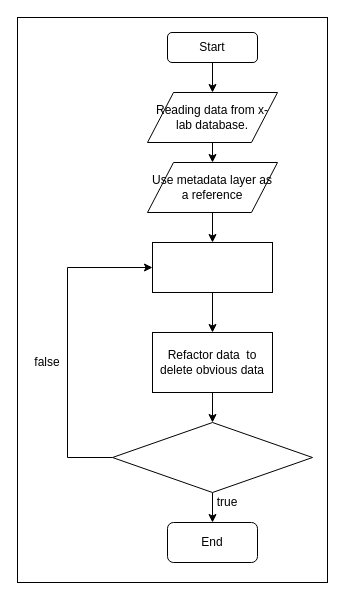
The diagram is 345 pixels wide and 600 high, and some of its shapes have lost their labels. Each missing label, with the box of its shape:
Data related to laboratory operation and maintenance only: (112, 422, 312, 492)
Ontology reasoning: (152, 242, 272, 292)
